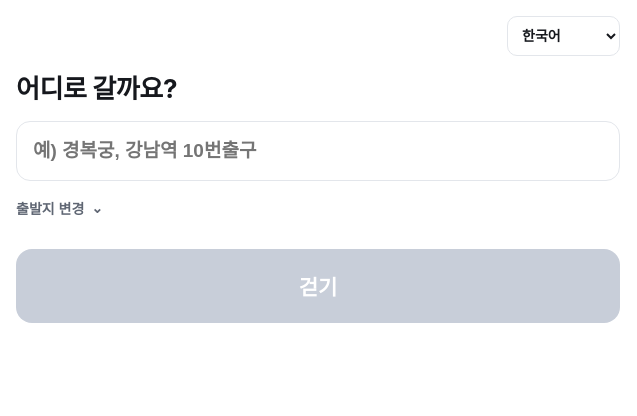
Test case: TEST B — '걷기' 클릭에서만 원샷 위치 조회, 성공해야만 navigating 진입 › 원샷 위치 정확도가 50m를 넘으면 route API 를 부르지 않는다
The width and height of the screenshot is (637, 416).
In the search field named "목적지": (318, 151) [16, 121, 620, 181], type "경복궁"
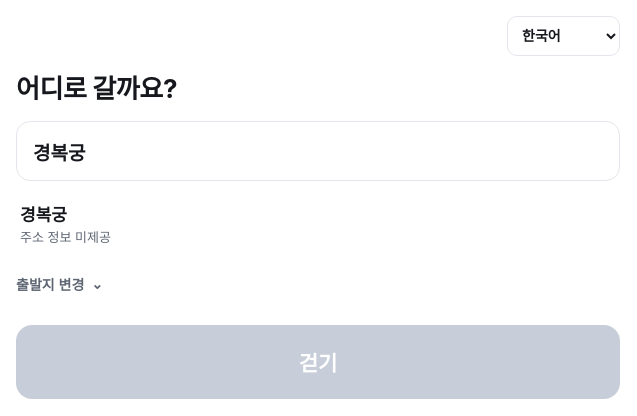
Click the button "경복궁 주소 정보 미제공": (43, 216) [16, 191, 620, 256]
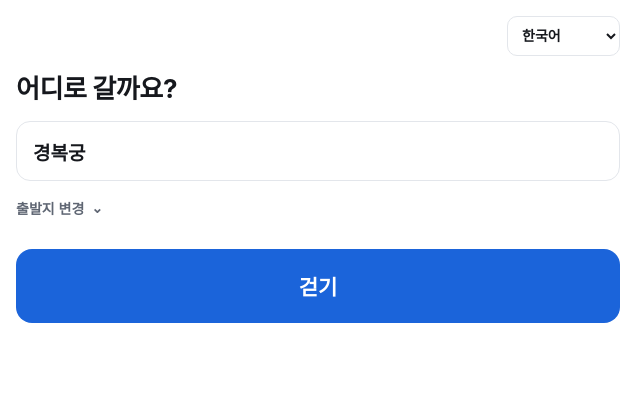
Click the button "걷기": (318, 286) [16, 249, 620, 323]
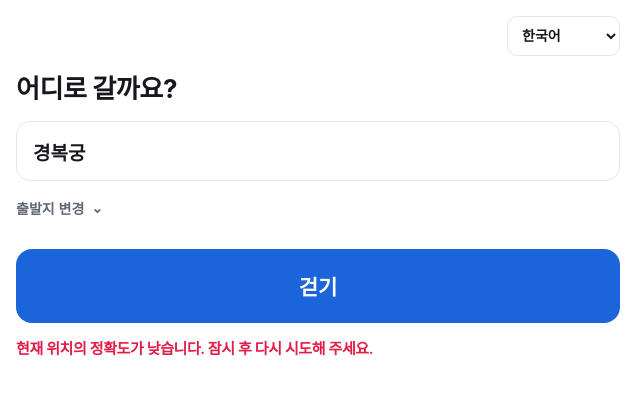
Expected: the text "현재 위치의 정확도가 낮습니다. 잠시 후 다시 시도해 주세요." is shown, [16, 339, 373, 358]
